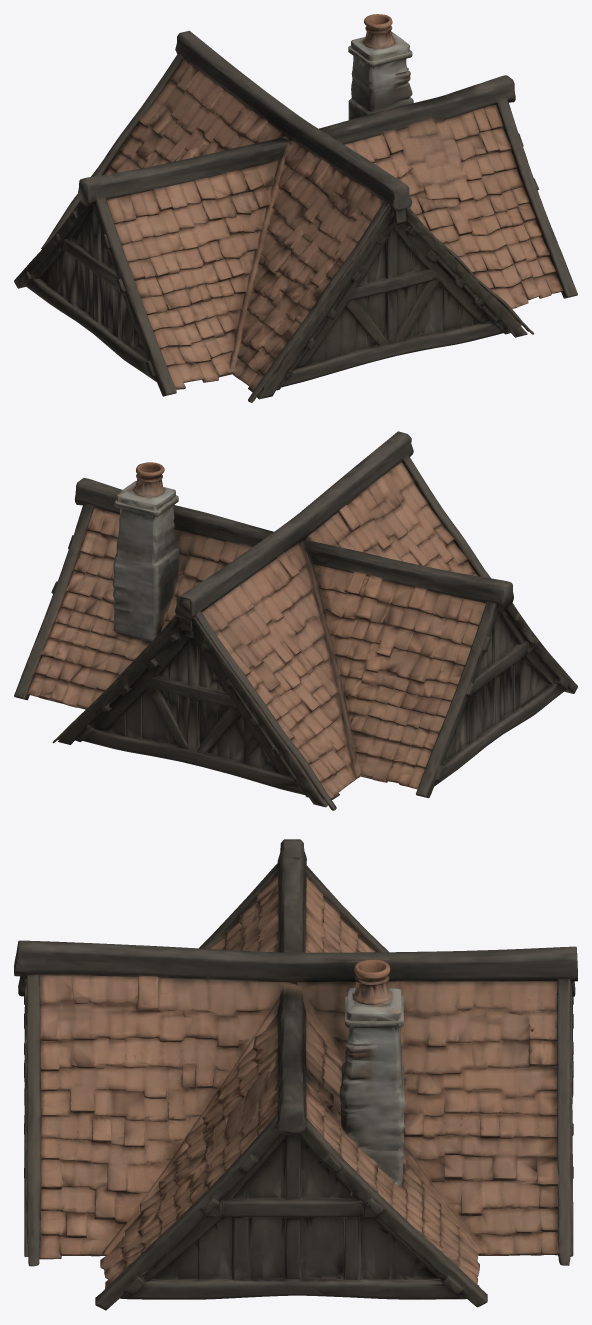
The model's file is 带烟囱十字红色屋顶.glb.
The picture shows the model from 3 angles, top to bottom: view 1: azimuth 30°, elevation 25°; view 2: azimuth 150°, elevation 25°; view 3: azimuth 270°, elevation 25°; orthographic projection. The views are drawn at different scales.
Parts seen in each view (by area): view 1: node_0; view 2: node_0; view 3: node_0.
Part boxes in pixels (bbox=[...]): node_0: bbox=[14, 14, 577, 402]; node_0: bbox=[14, 431, 577, 810]; node_0: bbox=[14, 839, 577, 1310].
Bounding box in the file's own units: 0.9586 × 0.4802 × 0.8547.
Materials: 1 (1 with a texture image).
